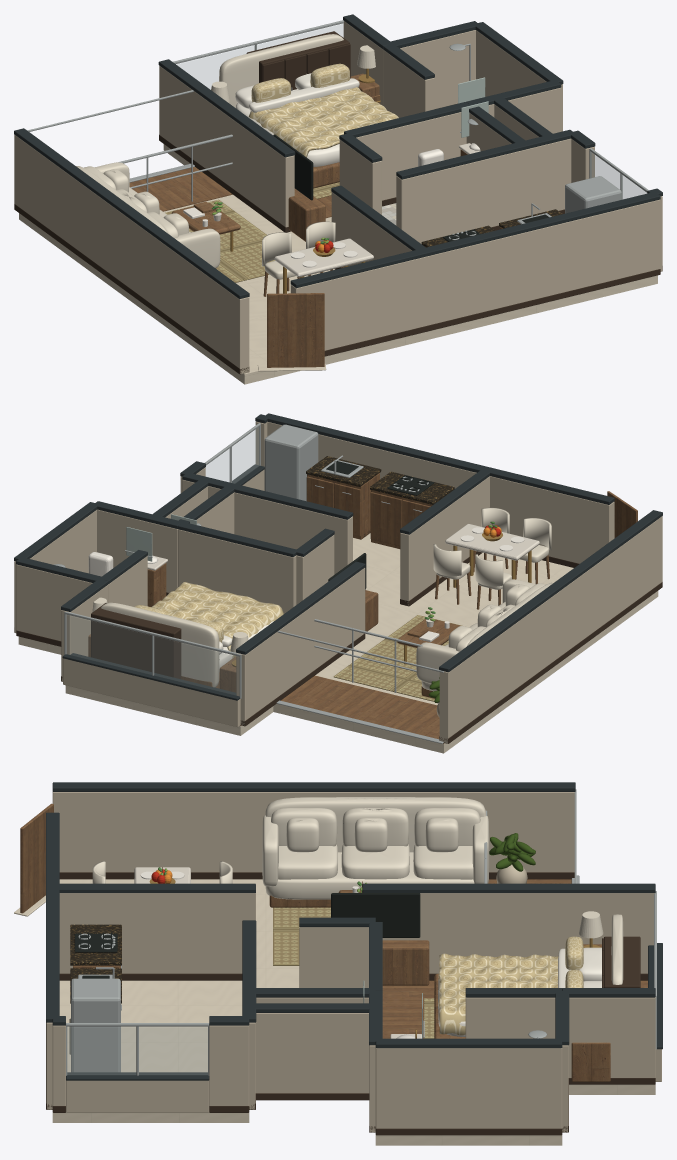
Rendered from Codename-Elements_Tower-2_Flat-02_1BHK.glb.
3 renders of one model, top to bottom at view 1: azimuth 30°, elevation 25°; view 2: azimuth 150°, elevation 25°; view 3: azimuth 270°, elevation 25°, orthographic. The views are drawn at different scales.
Parts seen in each view (by area): view 1: Ivory masonry.002, Ivory masonry.001, Ivory masonry.014, Apartment foundation, Ivory masonry.016, Soft jacquard duvet with folds.003, Open walnut door leaf, Ivory masonry.012, Charcoal wall cut.002, Charcoal wall cut.001, Ivory masonry.009, Ivory masonry.005 (+47 smaller); view 2: Ivory masonry.001, Apartment foundation, Ivory masonry.002, Cutaway window glazing, Ivory masonry.012, Ivory masonry.016, Window sill, Ivory masonry.014, Ivory masonry.017, Dark fitted wardrobe, Soft jacquard duvet with folds.003, Ivory masonry.009 (+49 smaller); view 3: Ivory masonry.001, Apartment foundation, Ivory masonry.008, Ivory masonry.017, Ivory masonry.016, Ivory masonry.013, Cutaway window glazing.001, Ivory masonry.010, Charcoal wall cut.001, Soft jacquard duvet with folds.003, Window sill.001, Brushed refrigerator (+59 smaller).
Part boxes in pixels (bbox=[...]): Ivory masonry.002: bbox=[290, 199, 660, 350]; Ivory masonry.001: bbox=[14, 134, 249, 374]; Ivory masonry.014: bbox=[396, 143, 552, 243]; Apartment foundation: bbox=[19, 144, 657, 384]; Ivory masonry.016: bbox=[159, 67, 294, 227]; Soft jacquard duvet with folds.003: bbox=[248, 87, 398, 157]; Open walnut door leaf: bbox=[267, 293, 324, 367]; Ivory masonry.012: bbox=[356, 112, 466, 200]; Charcoal wall cut.002: bbox=[290, 192, 660, 288]; Charcoal wall cut.001: bbox=[14, 128, 249, 298]; Ivory masonry.009: bbox=[400, 30, 475, 109]; Ivory masonry.005: bbox=[526, 138, 571, 215]; Ivory masonry.001: bbox=[439, 516, 662, 743]; Apartment foundation: bbox=[18, 533, 658, 753]; Ivory masonry.002: bbox=[267, 421, 614, 563]; Cutaway window glazing: bbox=[67, 615, 238, 695]; Ivory masonry.012: bbox=[178, 529, 296, 613]; Ivory masonry.016: bbox=[245, 568, 365, 720]; Window sill: bbox=[63, 658, 240, 727]; Ivory masonry.014: bbox=[208, 486, 352, 574]; Ivory masonry.017: bbox=[400, 476, 489, 605]; Dark fitted wardrobe: bbox=[91, 603, 181, 678]; Soft jacquard duvet with folds.003: bbox=[151, 582, 283, 658]; Ivory masonry.009: bbox=[16, 564, 92, 640]; Ivory masonry.001: bbox=[52, 792, 574, 872]; Apartment foundation: bbox=[52, 879, 655, 1145]; Ivory masonry.008: bbox=[375, 1048, 562, 1128]; Ivory masonry.017: bbox=[59, 893, 255, 973]; Ivory masonry.016: bbox=[382, 893, 653, 973]; Ivory masonry.013: bbox=[255, 1013, 369, 1093]; Cutaway window glazing.001: bbox=[67, 1027, 207, 1074]; Ivory masonry.010: bbox=[568, 997, 655, 1077]; Charcoal wall cut.001: bbox=[52, 782, 575, 791]; Soft jacquard duvet with folds.003: bbox=[438, 953, 558, 1035]; Window sill.001: bbox=[66, 1080, 209, 1112]; Brushed refrigerator: bbox=[71, 978, 120, 1072].
Size of the model in its own units: 7.08 by 1.37 by 7.41.
Materials: 25 (6 with a texture image).
